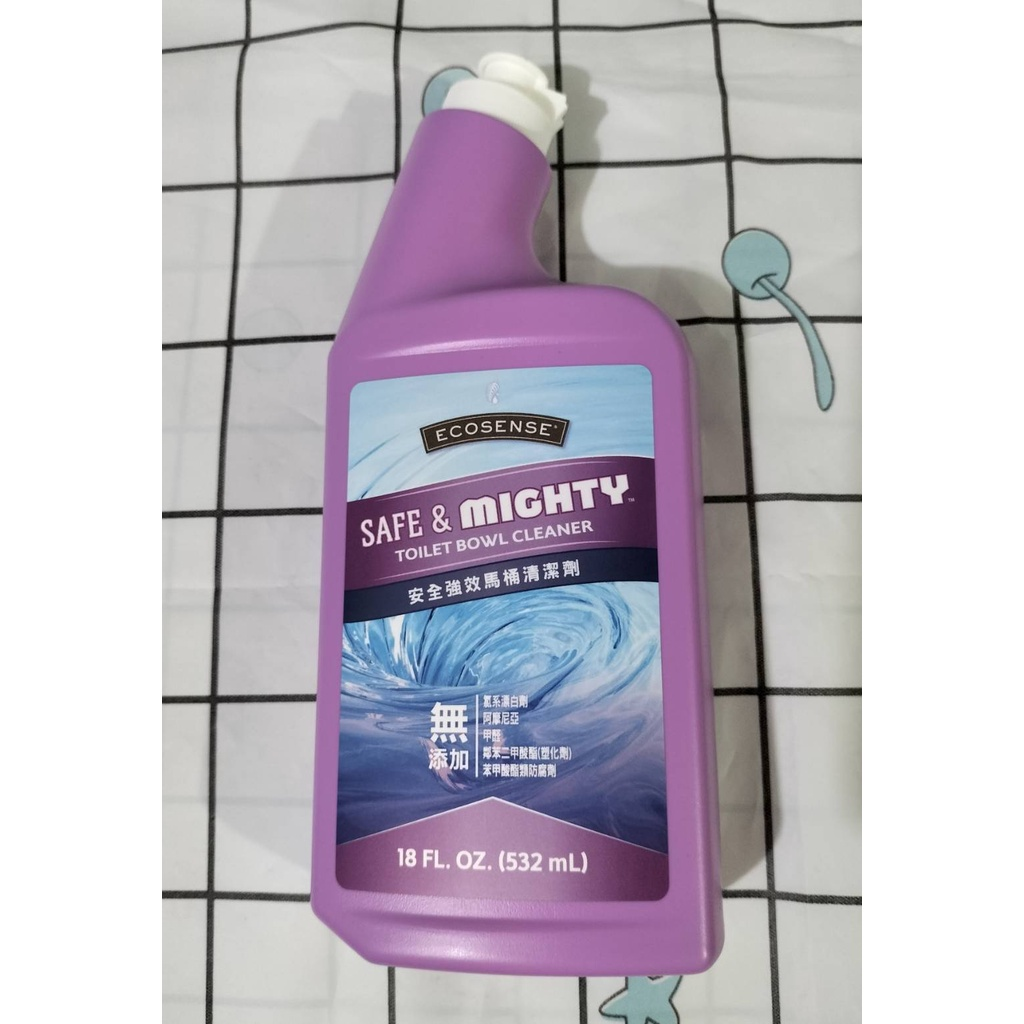cleaner: (311, 46, 743, 990)
